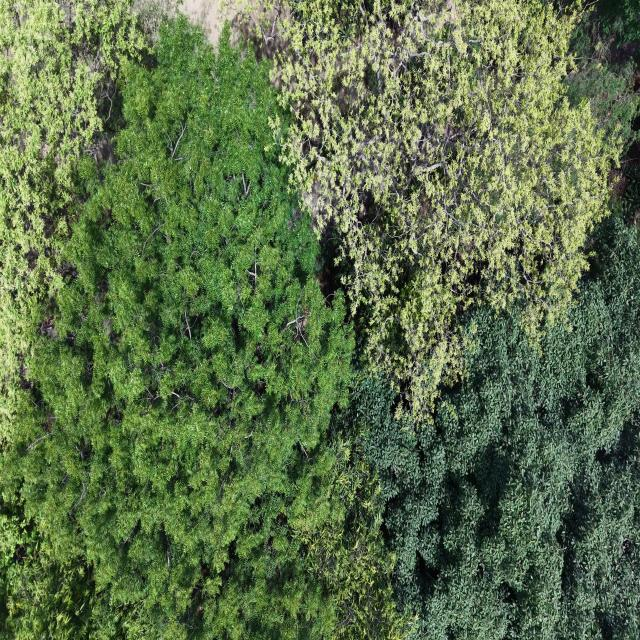DRY_AREA: (134, 0, 237, 46), (179, 0, 224, 45)
VEGETATION_TREE: (0, 0, 639, 639), (2, 19, 403, 638), (13, 21, 352, 638), (277, 0, 624, 413), (352, 216, 639, 639), (0, 0, 145, 479), (0, 0, 145, 430), (298, 416, 416, 639), (0, 498, 107, 639), (565, 10, 639, 151), (597, 0, 639, 41), (618, 164, 640, 225)
